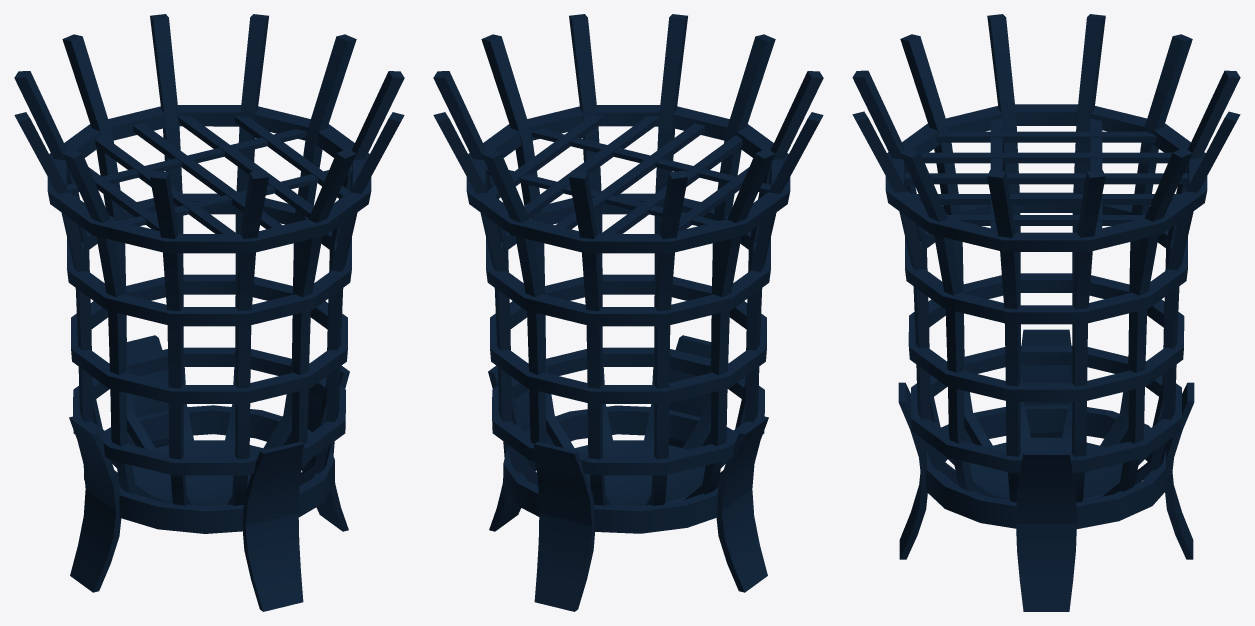
File: fire_cage.FBX
The picture shows the model from 3 angles, left to right: view 1: azimuth 30°, elevation 25°; view 2: azimuth 150°, elevation 25°; view 3: azimuth 270°, elevation 25°; orthographic projection.
Visible parts, largest first — view 1: fire_cage; view 2: fire_cage; view 3: fire_cage.
Part boxes in pixels (x1,y1,x2,y2): fire_cage: [14, 14, 404, 611]; fire_cage: [433, 14, 823, 611]; fire_cage: [852, 14, 1240, 611].
Size of the model in its own units: 59.56 by 77.11 by 59.56.
